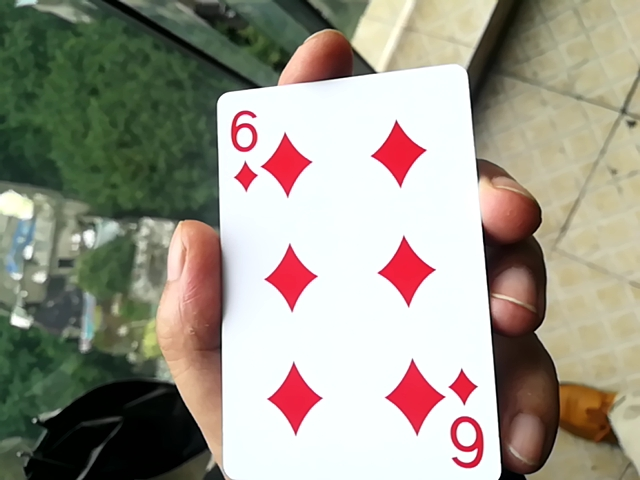fk 6: (195, 50, 503, 478)
